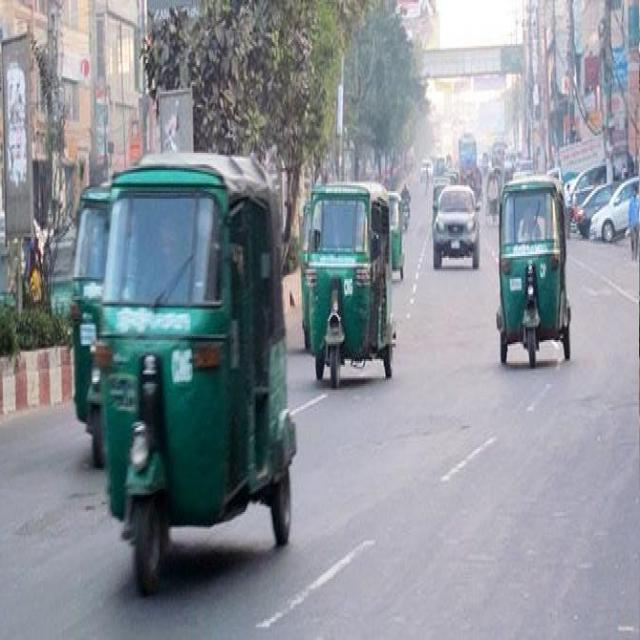CNG: (87, 145, 301, 610), (52, 178, 171, 469), (290, 175, 408, 398), (483, 175, 581, 398)
Car: (412, 168, 489, 285), (583, 165, 640, 264), (563, 170, 638, 242)
